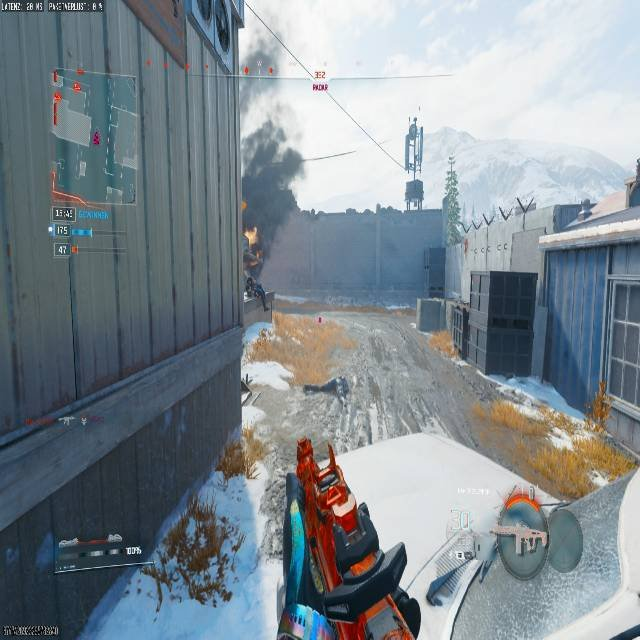player: (241, 118, 307, 305), (241, 226, 270, 309)
